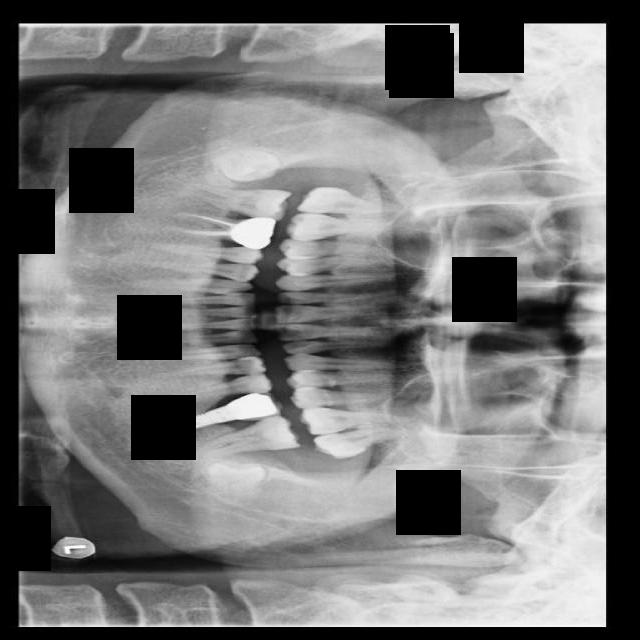52: (225, 207, 276, 254), (225, 389, 283, 424)
73: (52, 578, 68, 580)
BioHorizons Implant: (311, 422, 410, 463)
Biomet 3i Implant: (204, 460, 266, 505)
Blue Sky Bio Implant: (198, 413, 301, 458)
Caries: (295, 185, 402, 217)
Implant: (184, 182, 292, 224)
Keystone Dental Implant: (219, 150, 280, 182)
